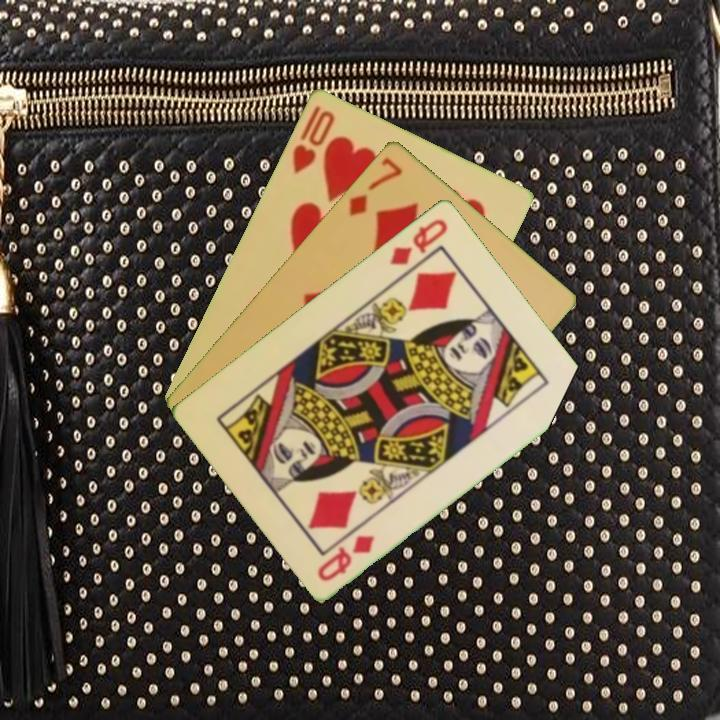10h: (288, 101, 338, 177)
7d: (345, 153, 405, 219)
Qd: (386, 214, 451, 268), (313, 530, 378, 584)
